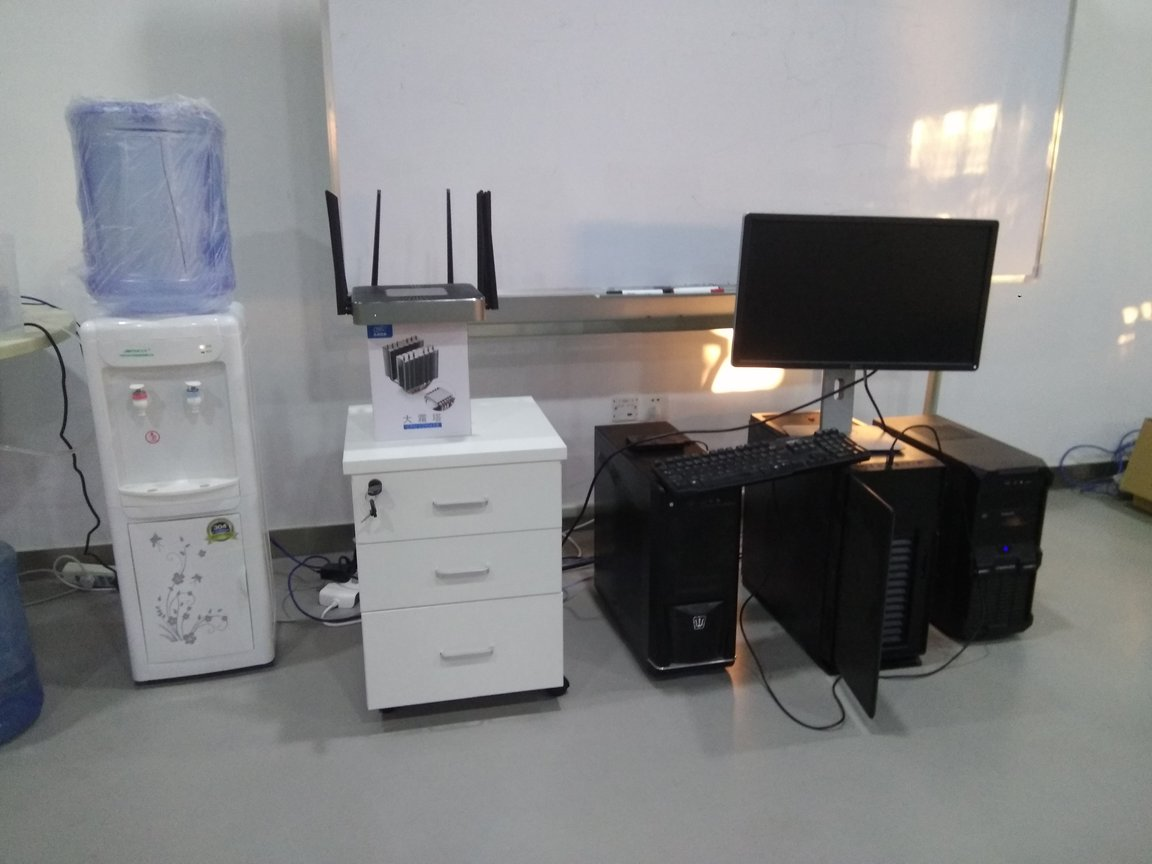computer: (751, 409, 936, 691), (591, 416, 750, 693), (880, 406, 1051, 653)
drawer chest: (344, 392, 586, 713)
monitor: (738, 210, 994, 459)
scuttlebutt: (63, 95, 248, 310), (1, 541, 55, 755)
water dispenser: (75, 301, 285, 685)
